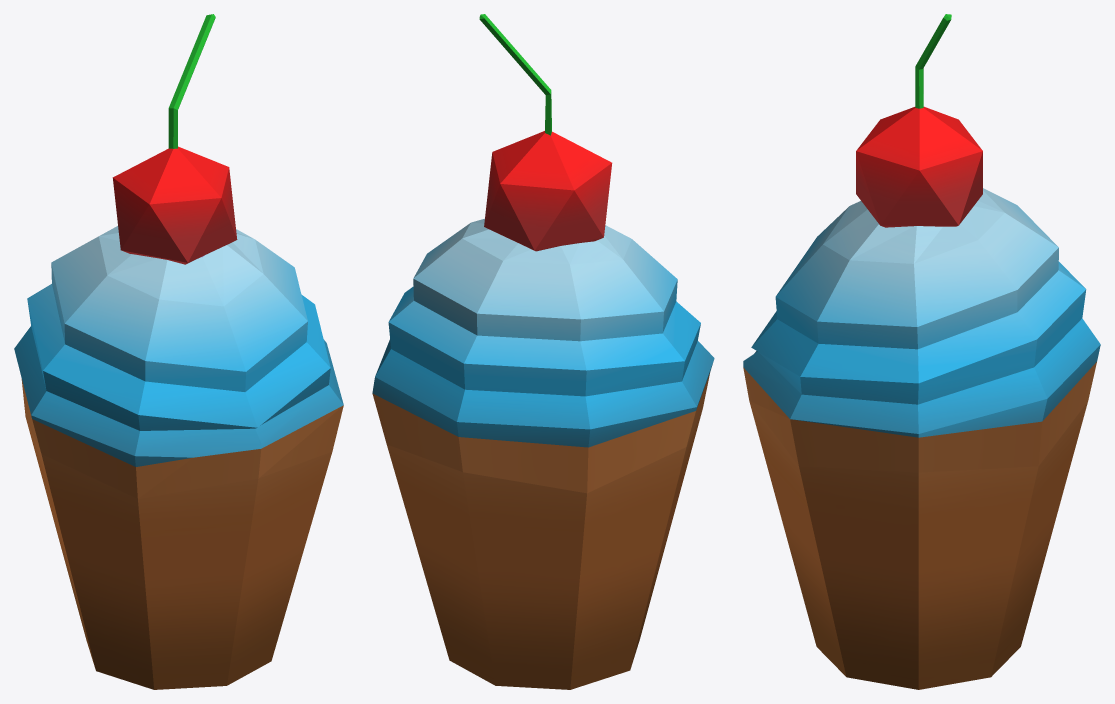
Rendered from CupcakeCherry2.glb.
3 views of the same model, side by side, from view 1: azimuth 30°, elevation 25°; view 2: azimuth 150°, elevation 25°; view 3: azimuth 270°, elevation 25° (orthographic). The views are drawn at different scales.
Parts seen in each view (by area): view 1: CupcakeCherry; view 2: CupcakeCherry; view 3: CupcakeCherry.
Part boxes in pixels (x1=…): CupcakeCherry: x1=14, y1=14, x2=343, y2=689; CupcakeCherry: x1=372, y1=14, x2=714, y2=689; CupcakeCherry: x1=743, y1=14, x2=1100, y2=689.
Bounding box in the file's own units: 0.6356 × 1.26 × 0.6243.
Materials: 1 (1 with a texture image).
